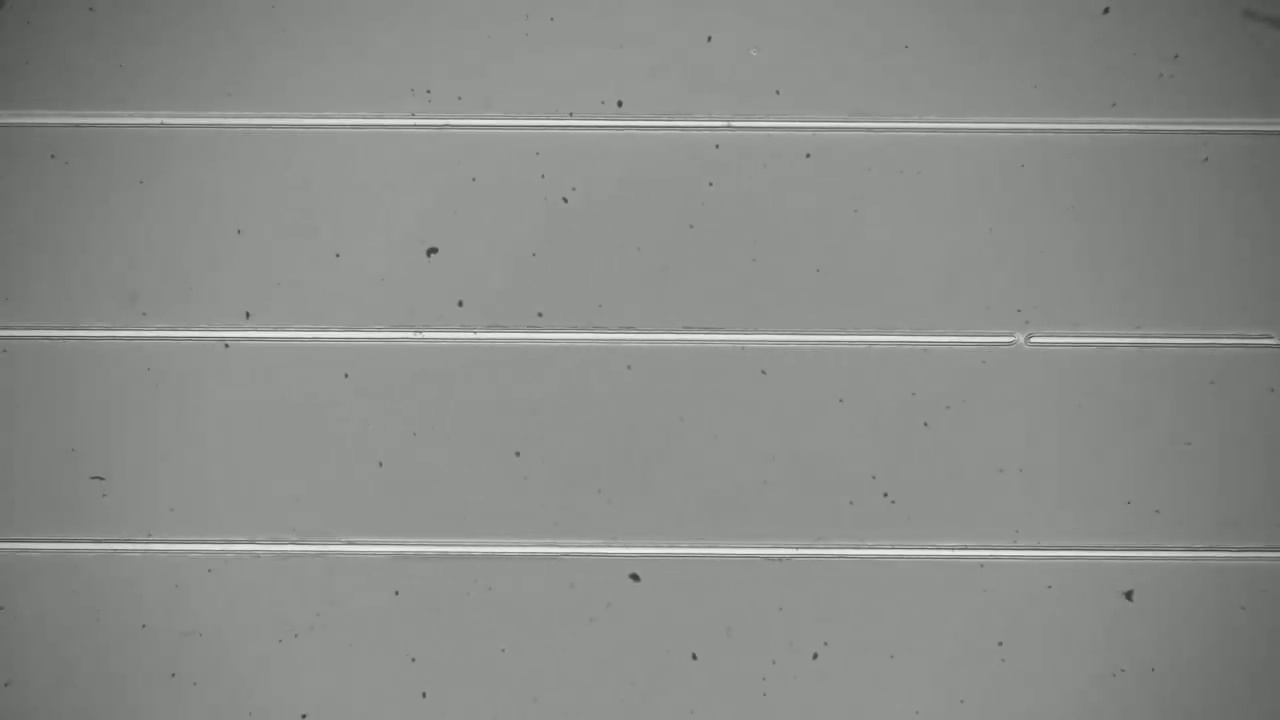open: (994, 316, 1041, 360)
